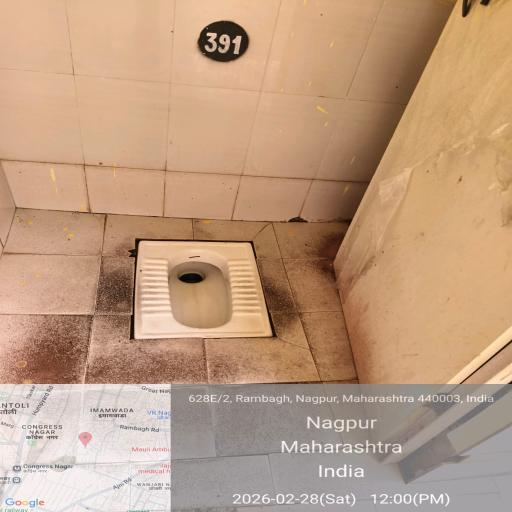clean_indian: (148, 246, 279, 350)
partial_dirty_floor: (40, 226, 454, 512), (74, 45, 423, 201)
